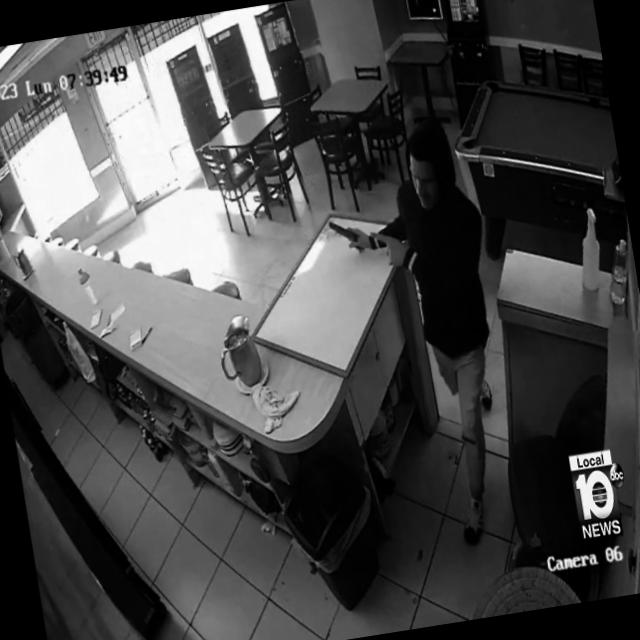gun: (326, 213, 368, 260)
person with a gun: (314, 111, 532, 562)
